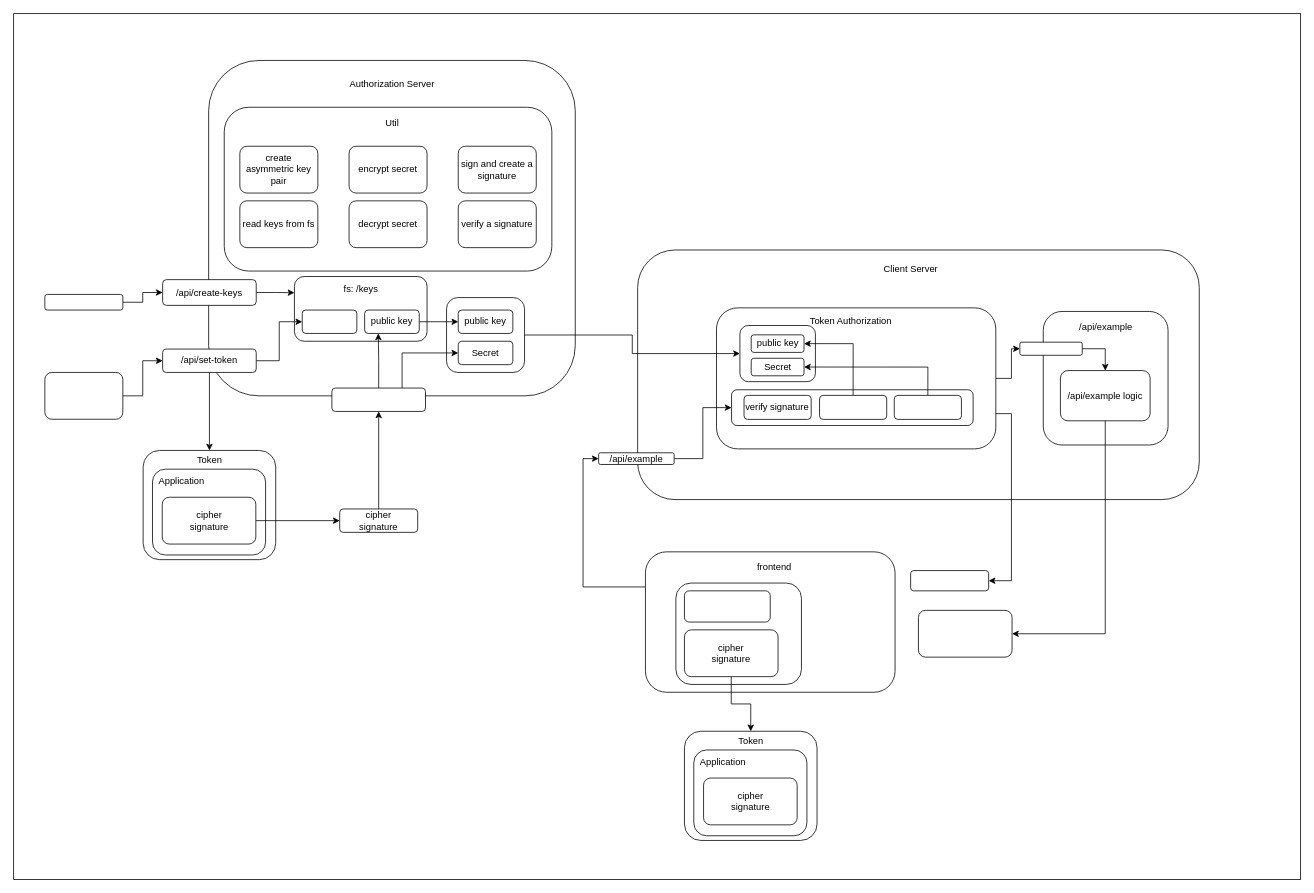
The diagram is 1314 pixels wide and 893 high, and some of its shapes have lost their labels. Each missing label, with the centre of its shape:
"/api/get-token" belongs at pixel 378 399.
"assert secret" belongs at pixel 927 407.
"Authorized" belongs at pixel 1050 348.
"decrypt cipher" belongs at pixel 853 407.
"example response" belongs at pixel 965 633.
"not authorized" belongs at pixel 949 580.
"other data" belongs at pixel 727 606.
"passphrase" belongs at pixel 83 302.
"pin application secret passphrase" belongs at pixel 83 395.
"private key" belongs at pixel 329 321.
